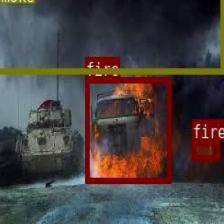fire: (85, 77, 170, 183), (192, 139, 219, 160)
smoke: (0, 0, 223, 72)
